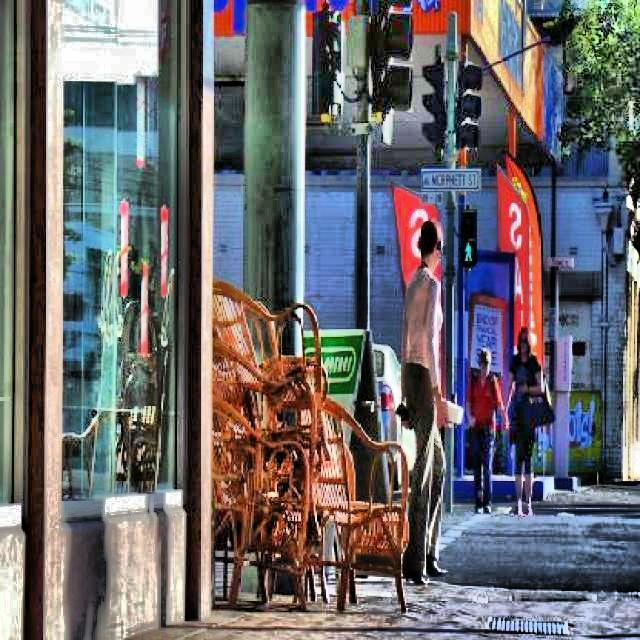semaforo pedestre: (454, 203, 481, 271)
